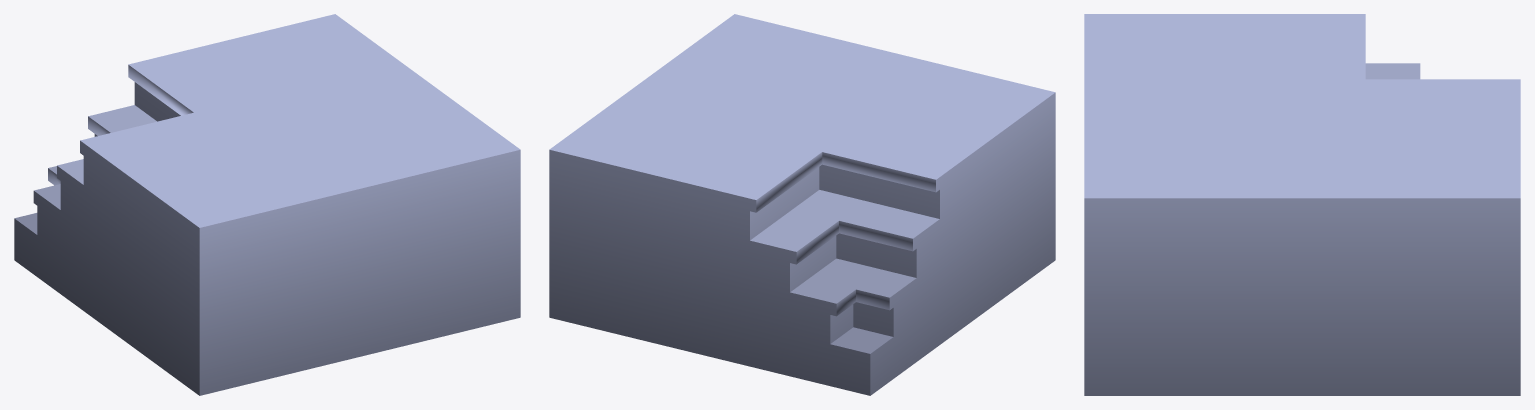
The model's file is stairs-full-corner-inner.glb.
3 views of the same model, side by side, from view 1: azimuth 30°, elevation 25°; view 2: azimuth 150°, elevation 25°; view 3: azimuth 270°, elevation 25° (orthographic). The views are drawn at different scales.
Parts seen in each view (by area): view 1: stairs-full-corner-inner; view 2: stairs-full-corner-inner; view 3: stairs-full-corner-inner.
Boxes of the visible parts, bbox=[...] form: stairs-full-corner-inner: bbox=[14, 14, 520, 395]; stairs-full-corner-inner: bbox=[549, 14, 1055, 395]; stairs-full-corner-inner: bbox=[1084, 14, 1520, 395].
Size of the model in its own units: 1 by 0.5 by 1.
1 material, 1 textured.
